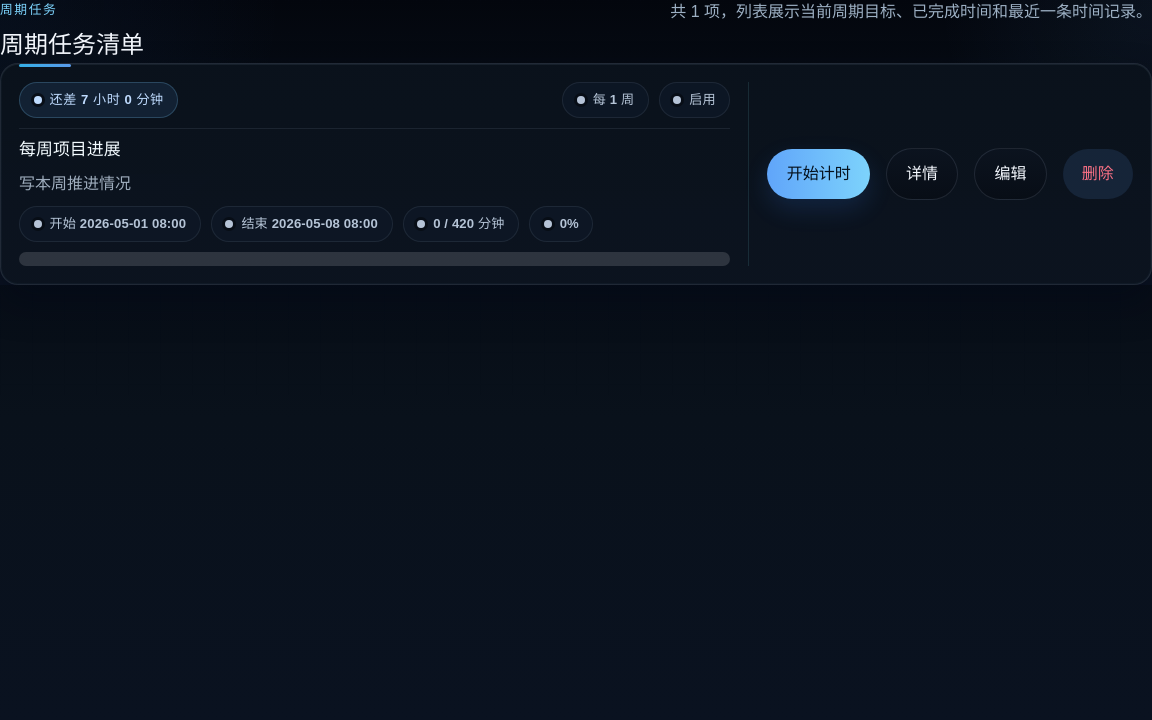
Scenario: RecurringTaskList › opens a timer modal from a recurring task row
Step 1. Click the button with test id "start-recurring-timer" → (819, 174), box [767,149,870,199]
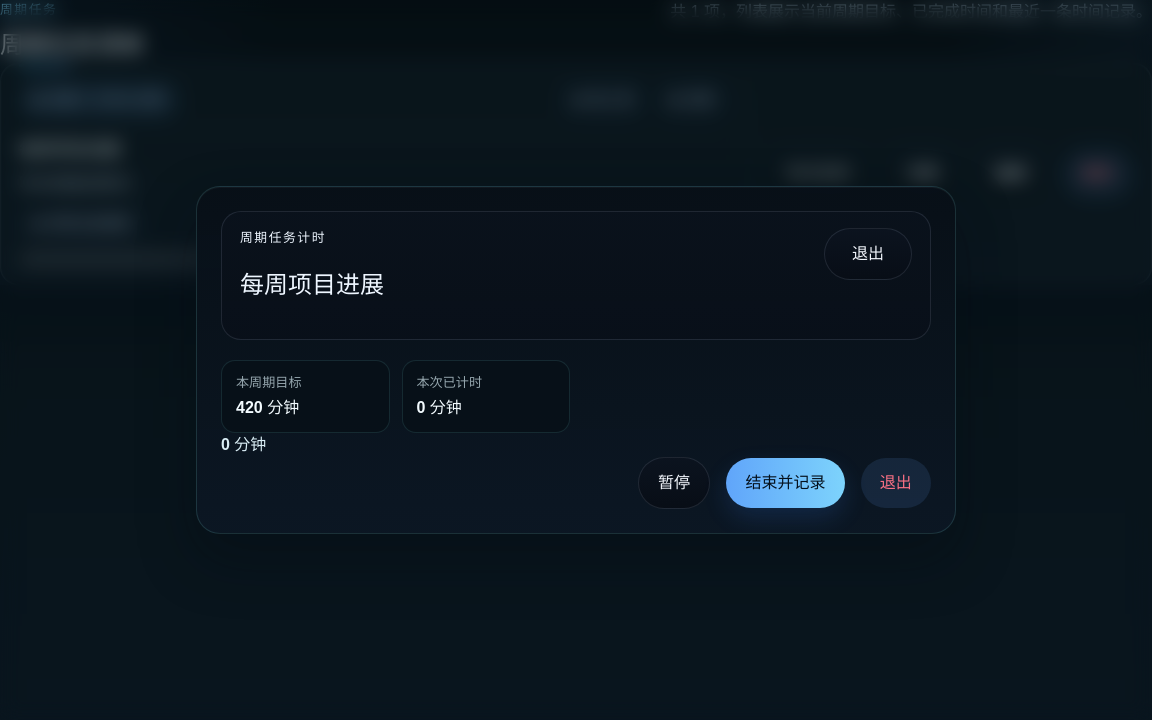
Result: the dialog with class "recurring-timer-modal" shows "周期任务计时" at [240,230,326,244]
